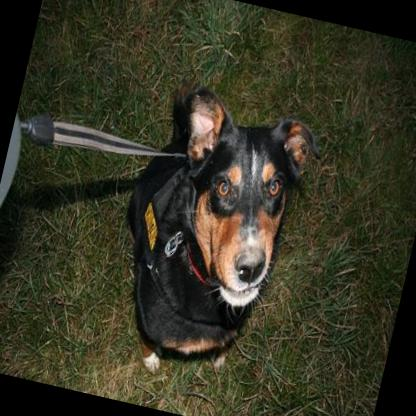Appenzeller: (91, 77, 323, 398)
